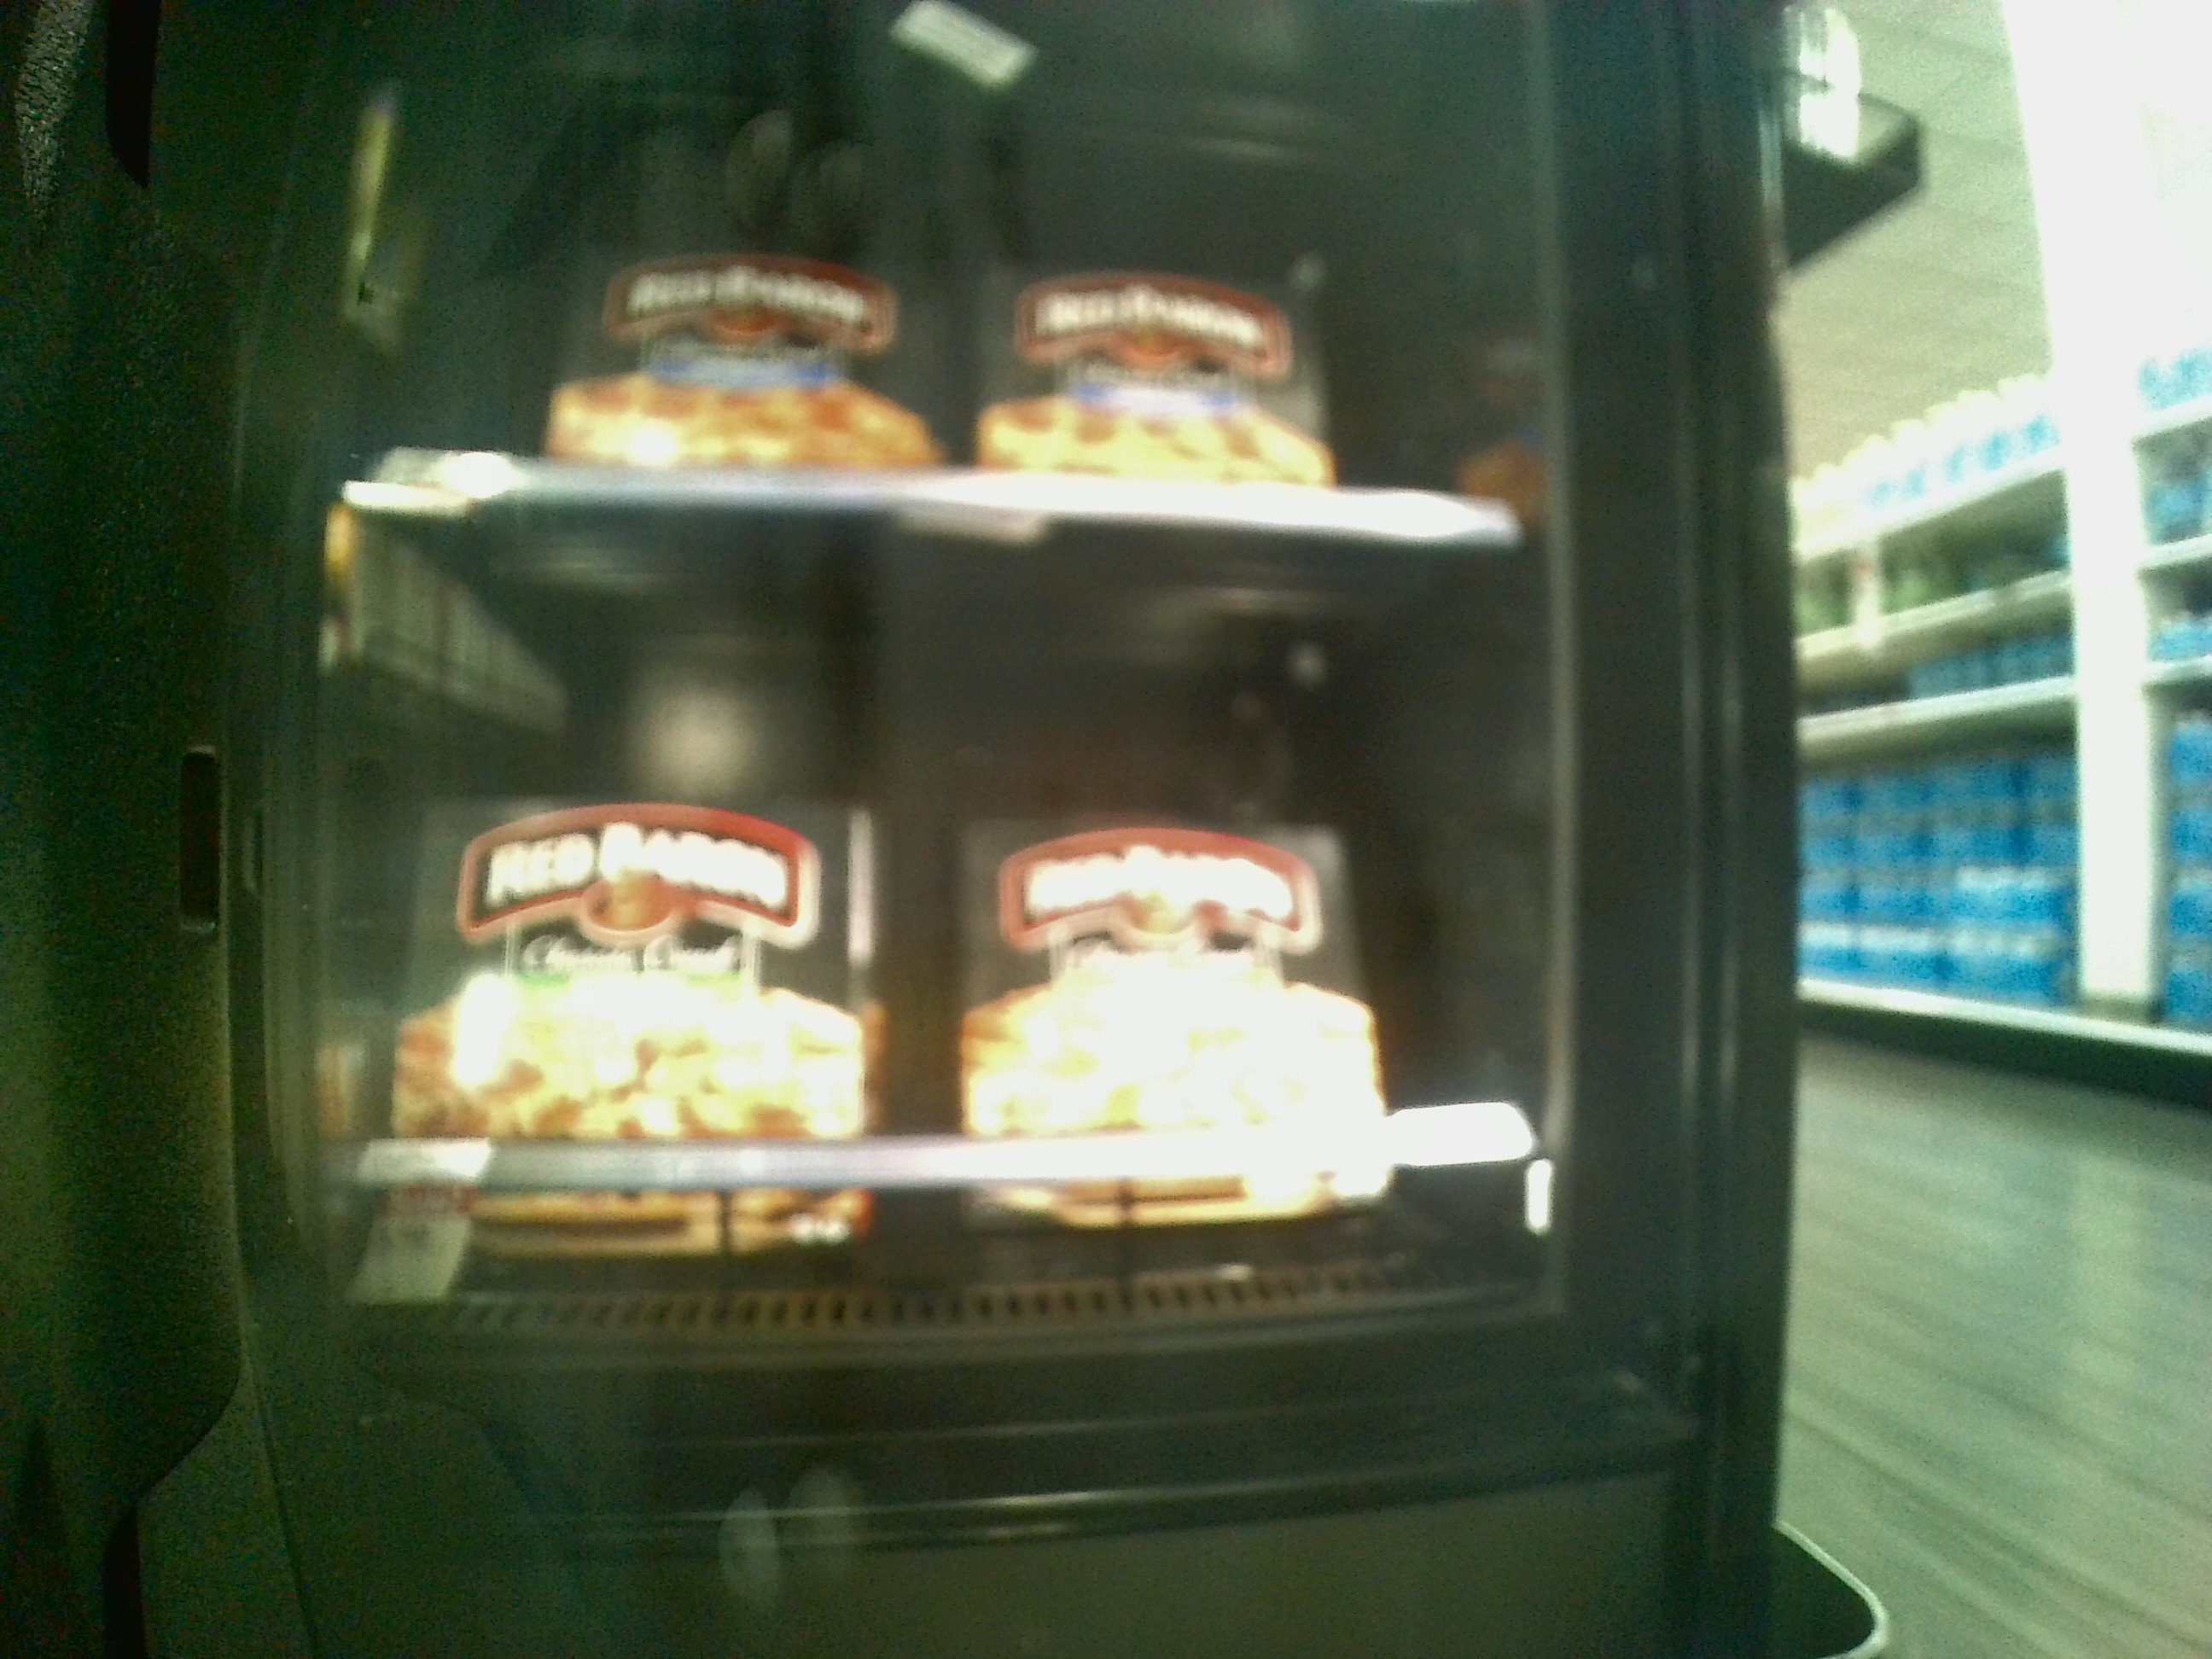shelf: (348, 526, 1538, 1295), (333, 0, 1547, 537)
